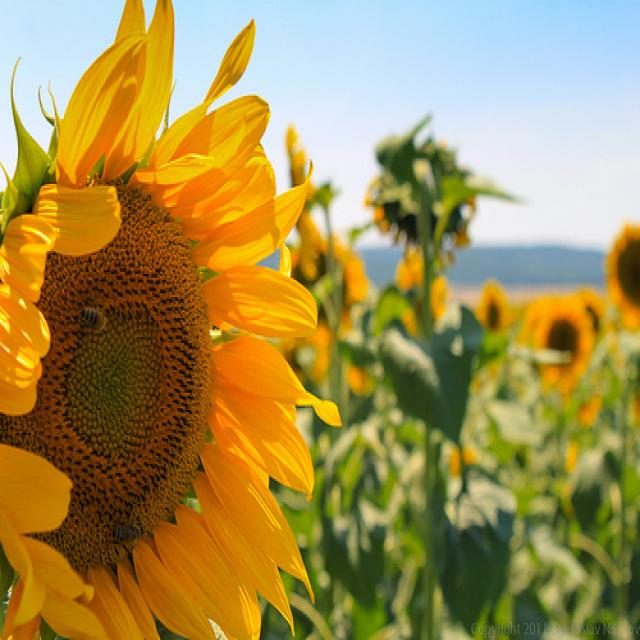sunflower: (0, 15, 321, 639), (361, 126, 486, 264), (532, 283, 592, 390), (604, 219, 640, 343), (476, 269, 514, 342)
